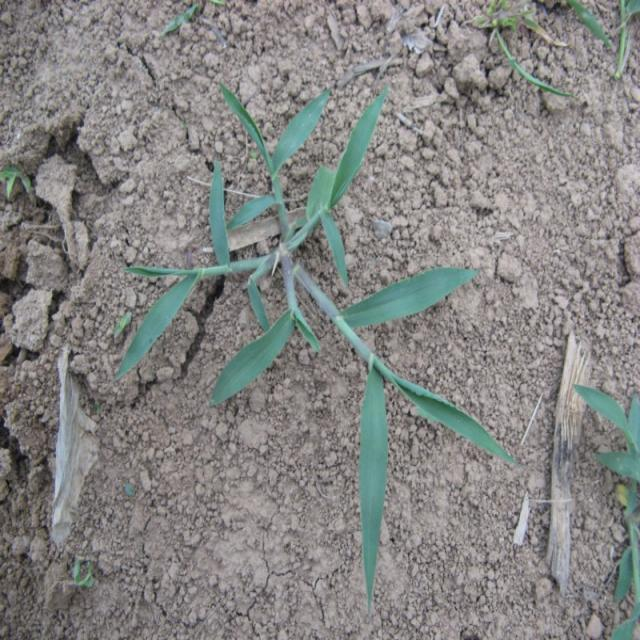bg: (117, 74, 515, 598)
